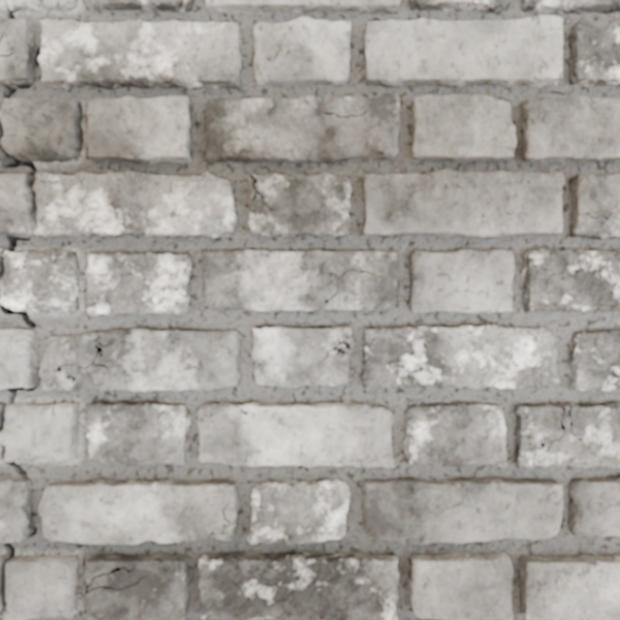brick: (0, 172, 236, 236), (40, 19, 242, 90), (365, 16, 563, 88), (199, 551, 398, 619), (363, 170, 564, 237), (204, 95, 400, 162), (363, 478, 563, 543), (39, 479, 238, 543), (41, 328, 240, 391), (198, 403, 393, 467), (361, 326, 559, 388), (202, 251, 397, 311), (84, 553, 189, 619), (410, 552, 512, 619), (514, 404, 619, 469), (88, 97, 190, 163), (412, 95, 515, 160), (87, 402, 190, 466), (86, 253, 192, 315), (249, 479, 350, 544), (255, 17, 350, 85), (409, 251, 513, 313), (248, 173, 350, 236), (521, 97, 619, 162), (406, 404, 507, 467), (521, 555, 619, 619), (252, 326, 354, 387), (522, 250, 619, 312), (569, 19, 619, 86), (570, 174, 619, 238), (569, 331, 619, 392), (569, 478, 619, 536), (206, 0, 398, 13), (0, 18, 35, 85), (0, 328, 37, 389), (0, 476, 31, 542), (410, 0, 511, 13), (520, 0, 619, 13), (92, 0, 194, 12), (251, 189, 253, 200)
broken_brick: (0, 98, 83, 163), (0, 250, 80, 314), (2, 554, 80, 619), (0, 402, 79, 462), (8, 0, 79, 13), (0, 0, 8, 14), (0, 554, 6, 560)
crack: (0, 119, 60, 184), (0, 366, 47, 434), (536, 405, 585, 453), (86, 564, 144, 594), (0, 234, 32, 281), (0, 542, 15, 617), (0, 444, 30, 480), (318, 338, 354, 366), (0, 83, 33, 111), (0, 305, 36, 330), (250, 174, 271, 210), (34, 45, 47, 70), (222, 505, 236, 527), (30, 505, 37, 536), (5, 0, 15, 20), (233, 405, 249, 416), (0, 27, 8, 42), (0, 53, 14, 58), (0, 292, 2, 300), (57, 99, 63, 101)
